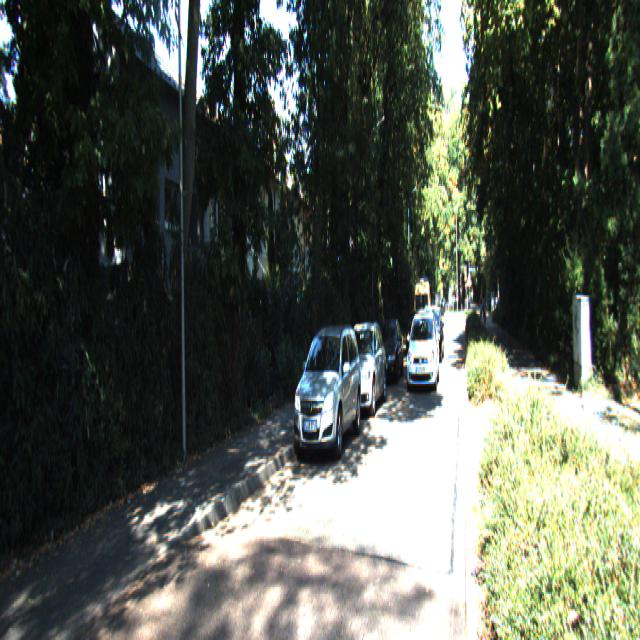Car: (291, 322, 361, 470), (336, 317, 387, 417), (406, 312, 441, 395), (375, 316, 405, 385), (413, 275, 431, 343), (407, 307, 424, 353)
